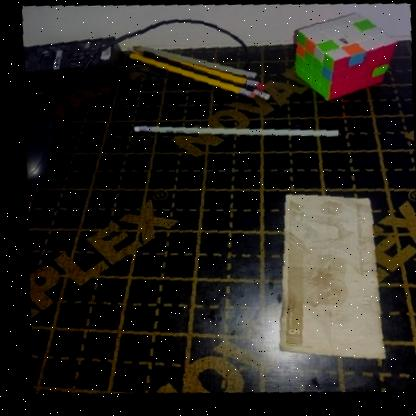five-back-vef: (261, 190, 383, 371)
